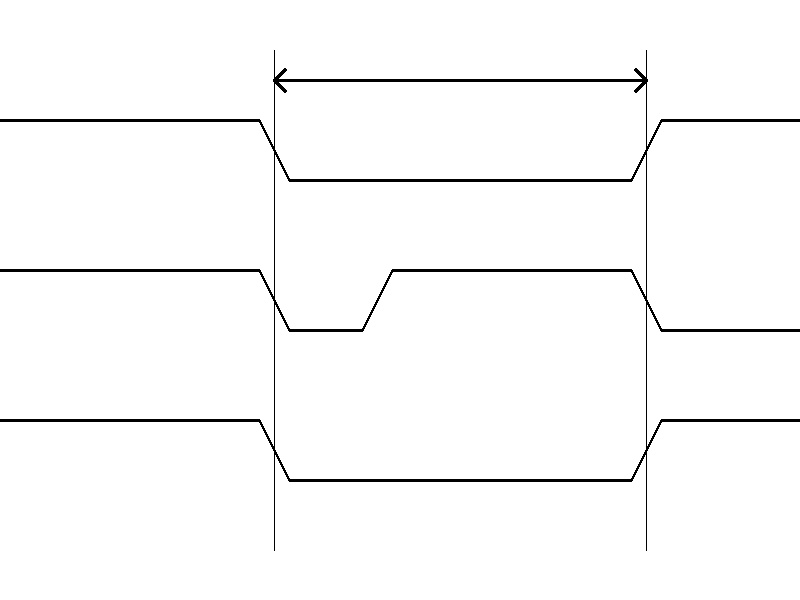double_arrow: (274, 65, 646, 95)
